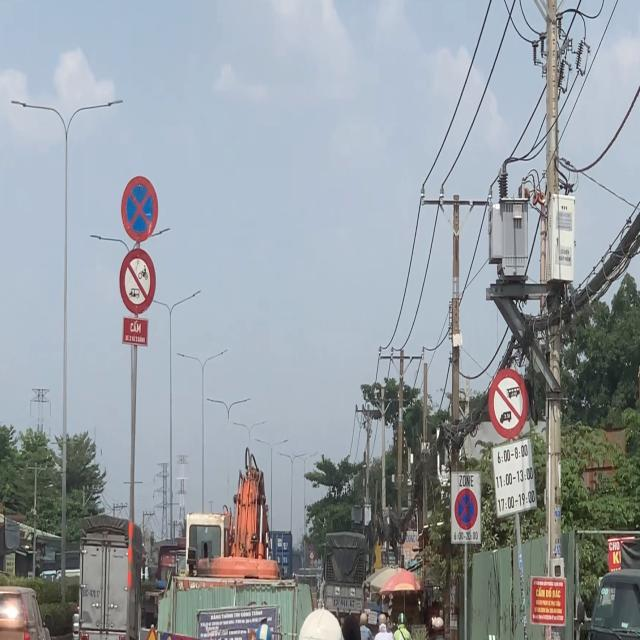Cam dung va do: (119, 172, 160, 245), (453, 487, 479, 532)
Nguy hiem: (141, 631, 161, 640)
